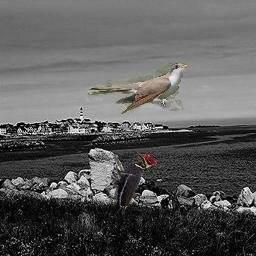Cuckoo: (87, 63, 187, 114)
Woodpecker: (109, 151, 157, 221)
